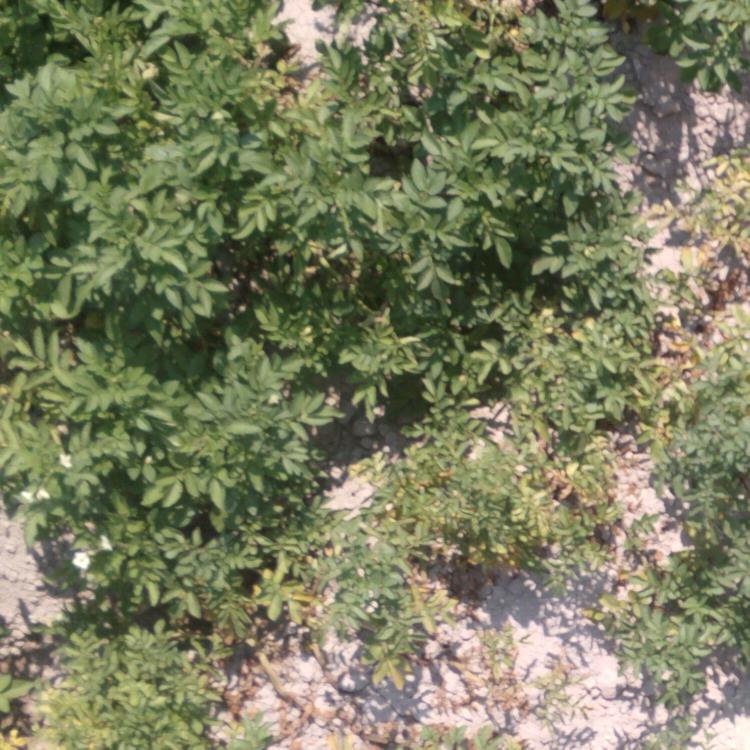healthy: (5, 6, 308, 579), (320, 4, 594, 321), (677, 363, 745, 664)
stressed: (373, 442, 659, 577), (261, 595, 495, 746), (513, 333, 664, 441), (41, 648, 203, 748), (687, 111, 745, 296)
